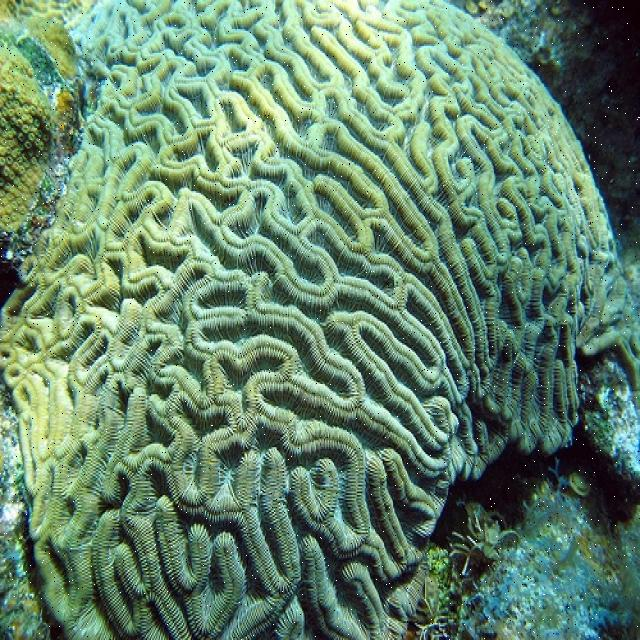aquatic plants: (449, 499, 521, 575), (546, 458, 593, 497)
reefs: (1, 0, 639, 638), (0, 47, 54, 230)
